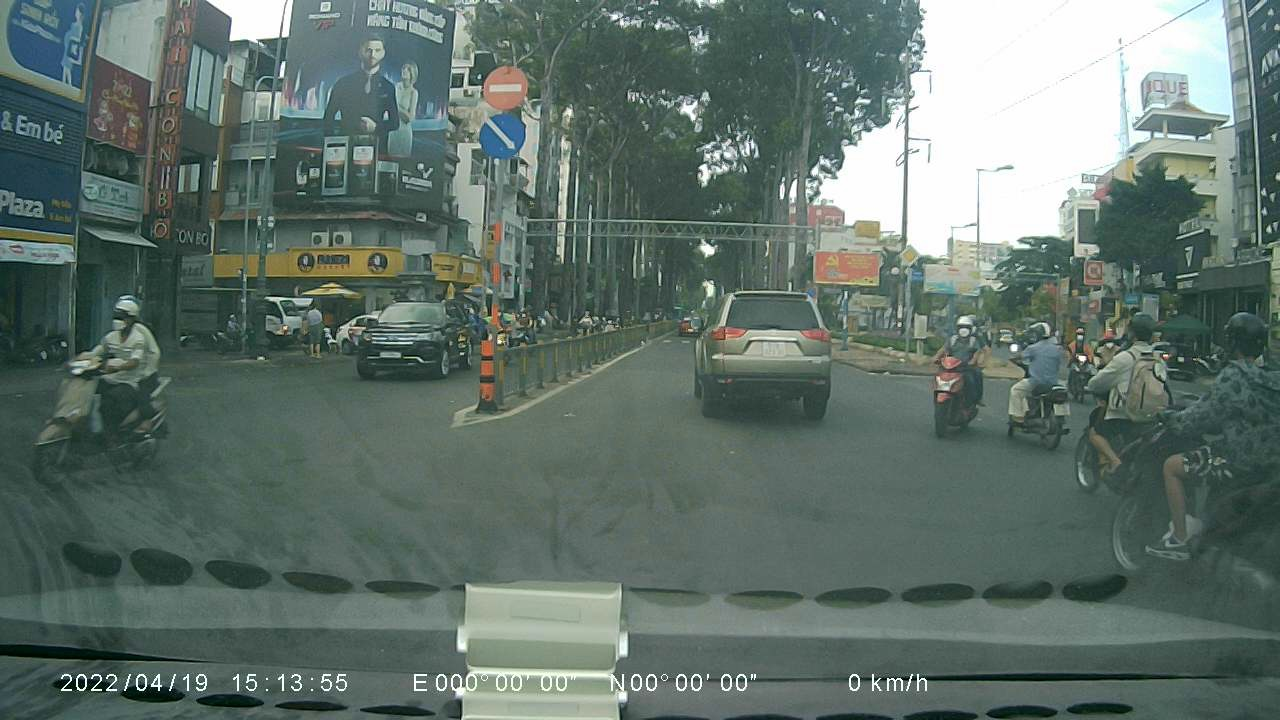Cam di nguoc chieu: (482, 61, 529, 109)
Huong di phai re phai: (479, 112, 528, 162)
